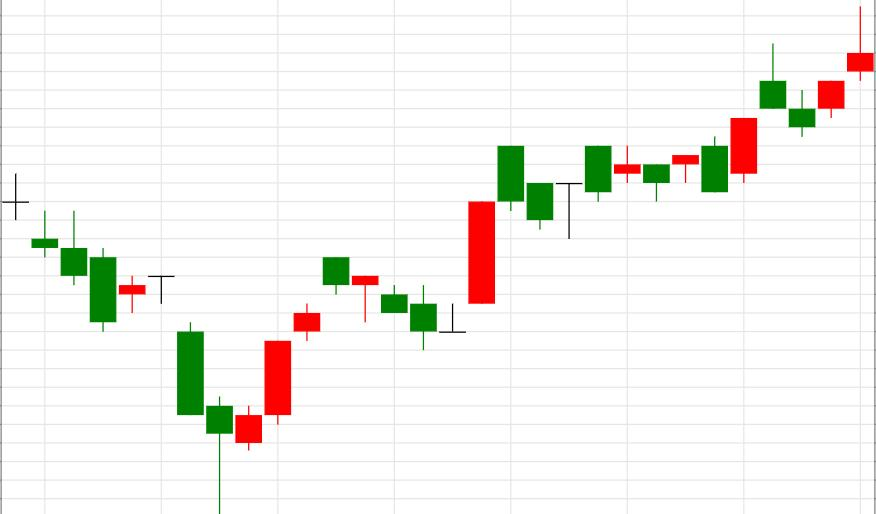hammer_rise: (2, 172, 232, 513)
